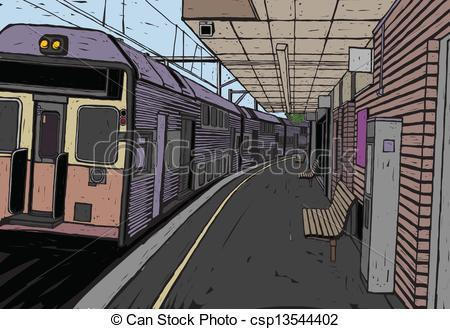train: (1, 21, 303, 253)
